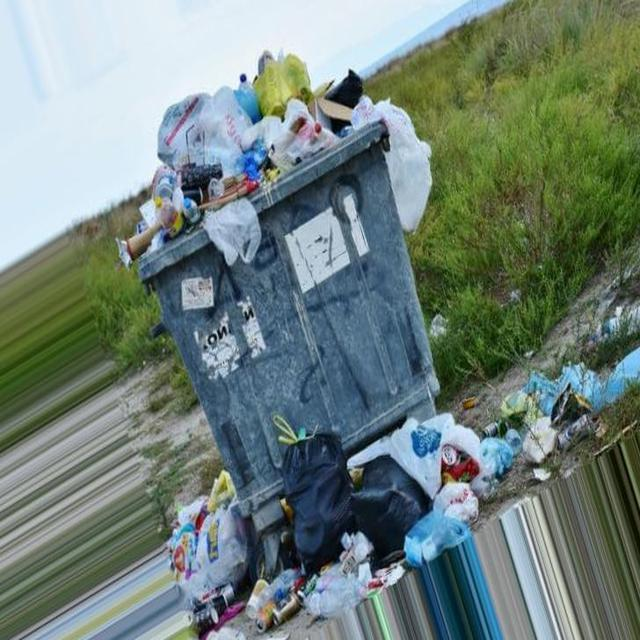garbage: (164, 420, 639, 624), (94, 47, 423, 251), (491, 337, 639, 420), (597, 304, 639, 346), (423, 310, 454, 341)
